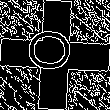O_E: (28, 32, 82, 78)
